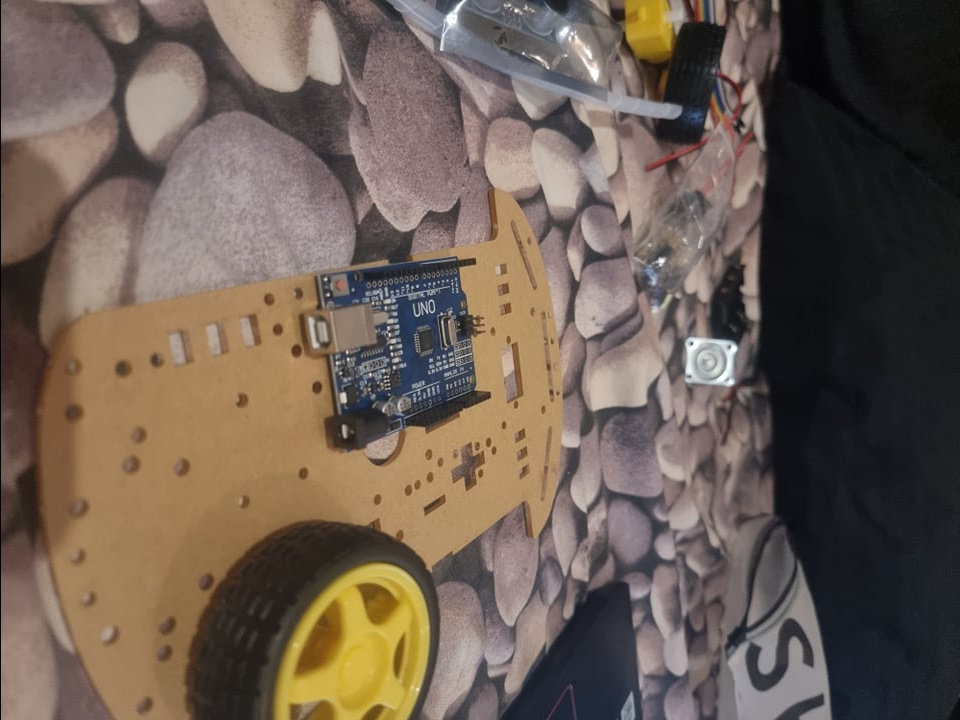BATTERY BOX: (711, 263, 754, 344)
UNO R3: (297, 251, 493, 456)
